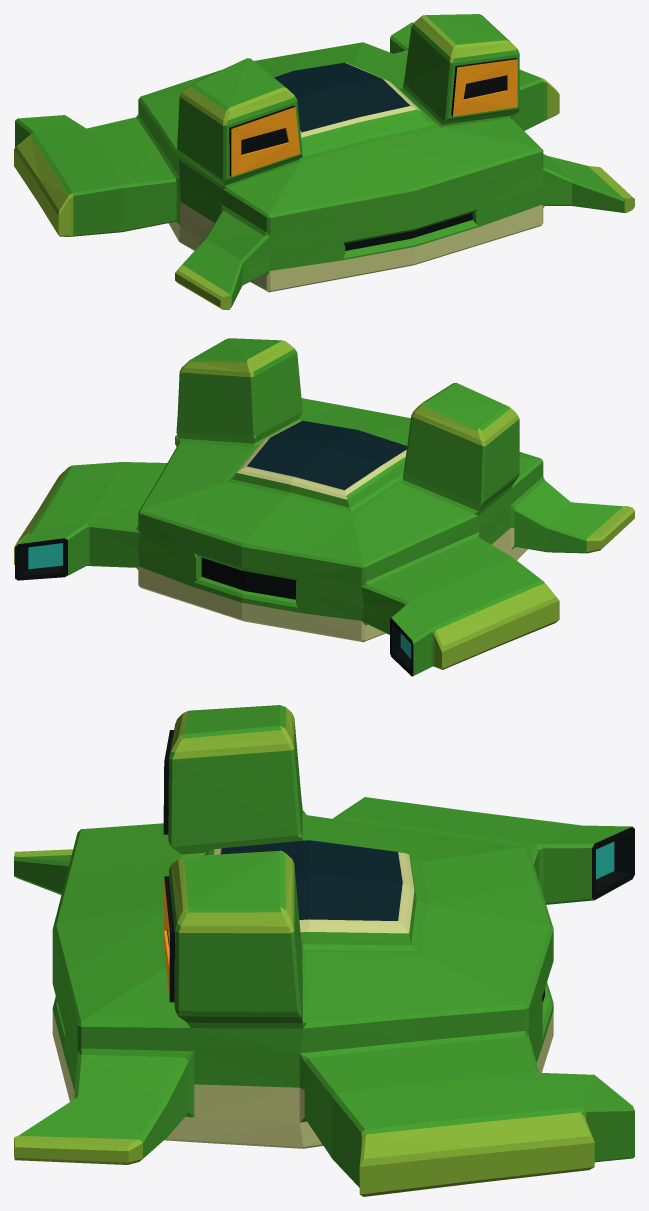
File: RANA_56_Juan_Jose_Rivas_Alvarez_24856.obj
3 views of the same model, one above another, from view 1: azimuth 30°, elevation 25°; view 2: azimuth 150°, elevation 25°; view 3: azimuth 270°, elevation 25° (orthographic). The views are drawn at different scales.
Parts seen in each view (by area): view 1: RANA_56_Juan_Jose_Rivas_Alvarez_24856; view 2: RANA_56_Juan_Jose_Rivas_Alvarez_24856; view 3: RANA_56_Juan_Jose_Rivas_Alvarez_24856.
Part boxes in pixels (x1,y1,x2,y2): RANA_56_Juan_Jose_Rivas_Alvarez_24856: (14,14,634,309); RANA_56_Juan_Jose_Rivas_Alvarez_24856: (14,338,634,676); RANA_56_Juan_Jose_Rivas_Alvarez_24856: (14,705,634,1196).
Size of the model in its own units: 7.54 by 2.54 by 5.58.
